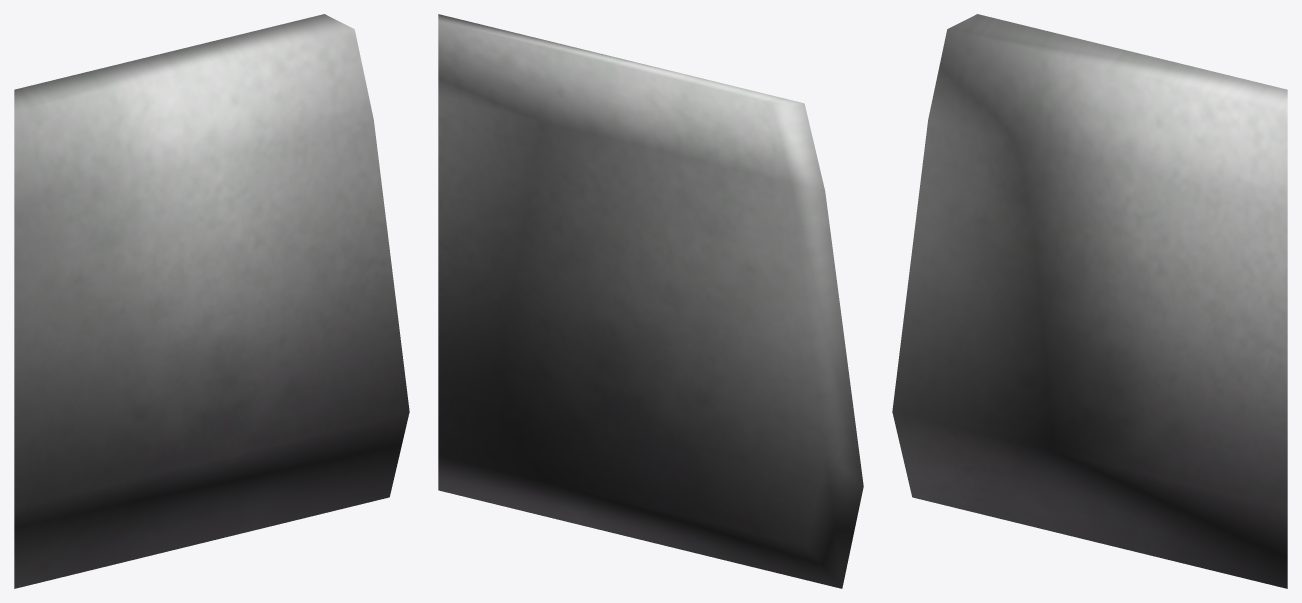
File: spaceship-damaged-piece2.fbx
3 renders of one model, left to right at view 1: azimuth 30°, elevation 25°; view 2: azimuth 150°, elevation 25°; view 3: azimuth 330°, elevation 25°, orthographic. The views are drawn at different scales.
Parts seen in each view (by area): view 1: polySurface10; view 2: polySurface10; view 3: polySurface10.
Part boxes in pixels (x1,y1,x2,y2): polySurface10: (14,14,409,588); polySurface10: (438,14,863,588); polySurface10: (892,14,1287,588).
Size of the model in its own units: 2.14 by 2.42 by 0.3989.
Materials: 1 (1 with a texture image).
